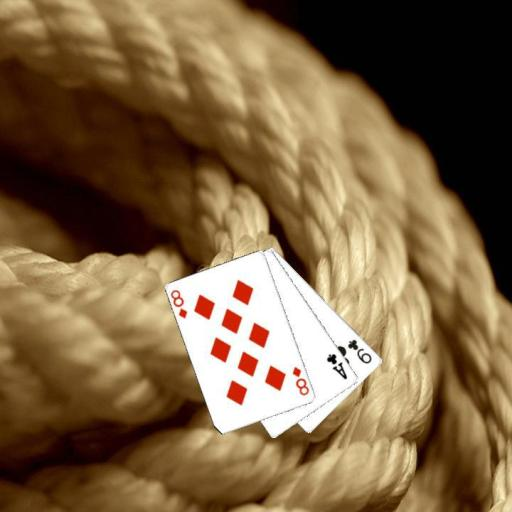8D: (289, 364, 311, 398), (168, 287, 189, 320)
9C: (345, 337, 373, 366)
AC: (324, 351, 349, 381)
